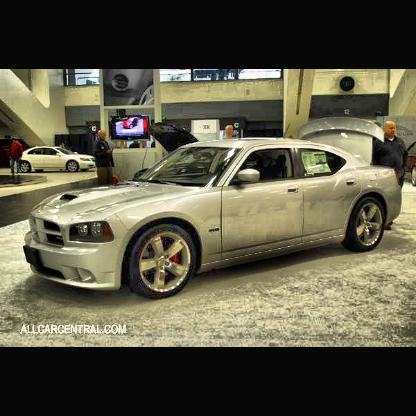Dodge Charger SRT-8 2009: (24, 125, 403, 299)
